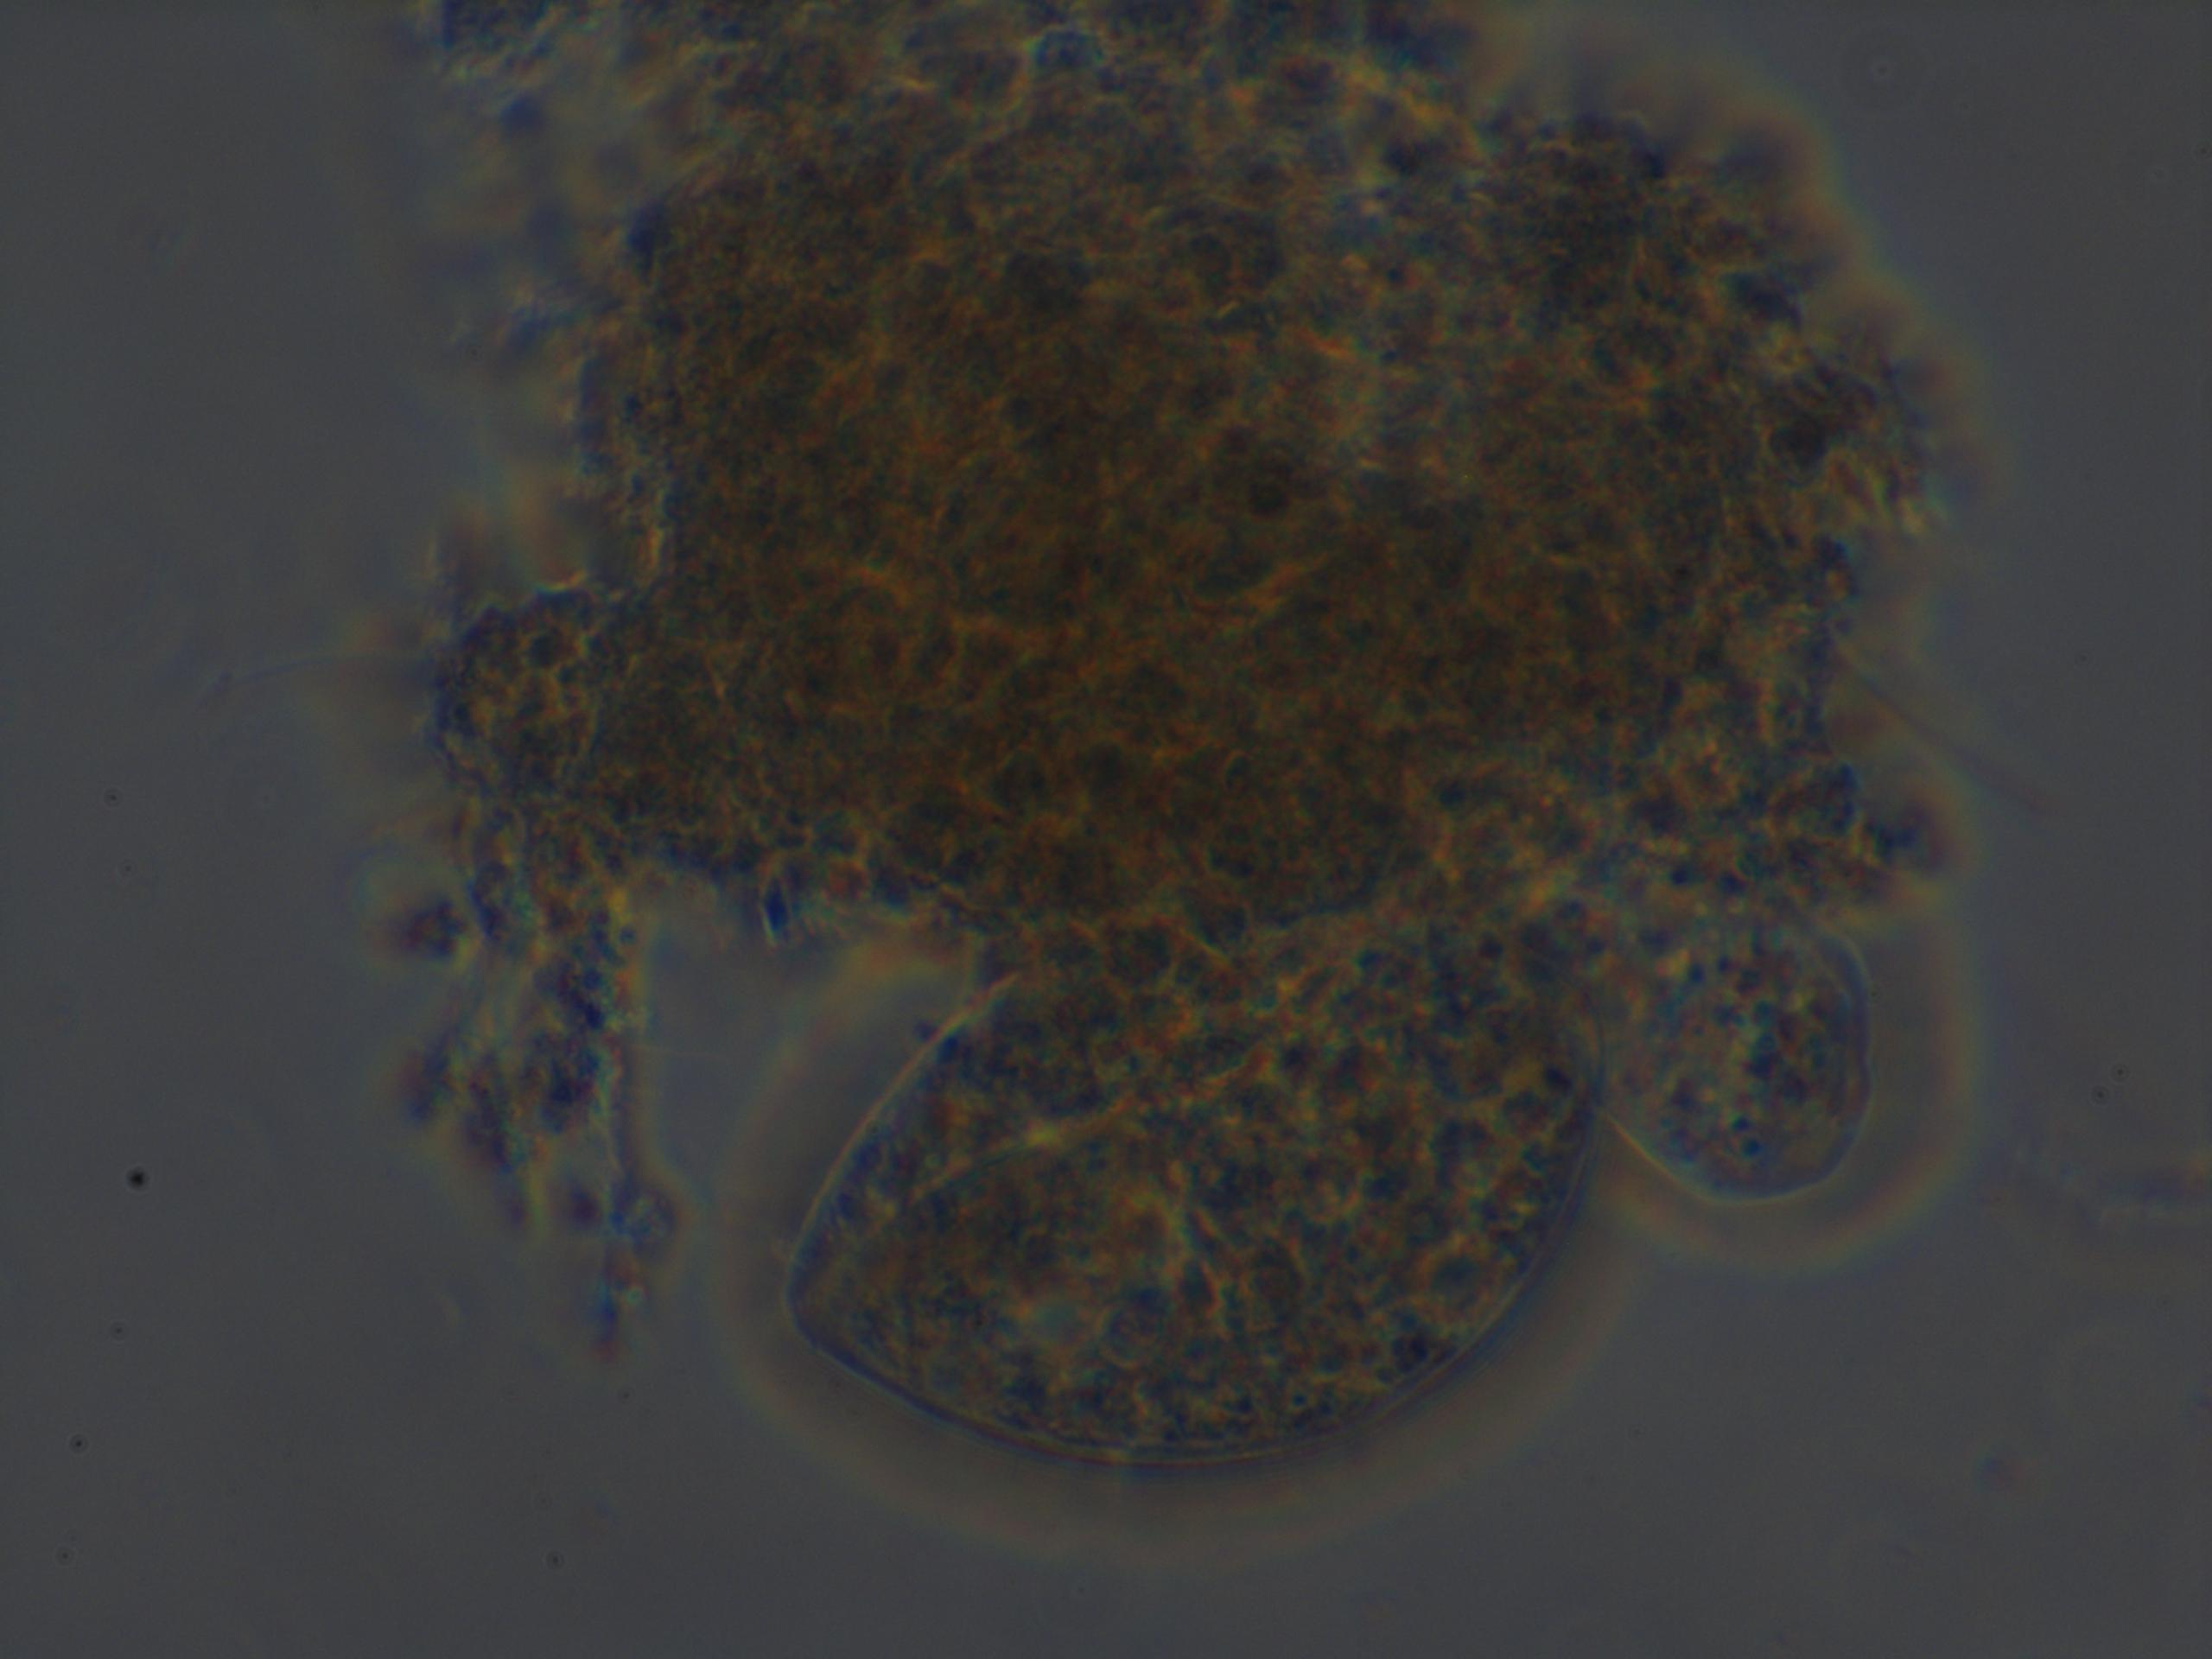protozoa: (690, 931, 1642, 1579)
spherical_floc: (408, 16, 1963, 945)
